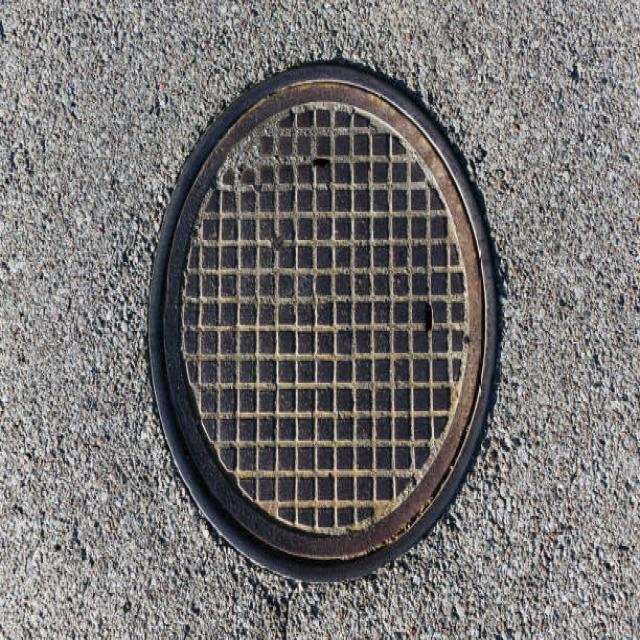Good: (141, 57, 508, 594)
